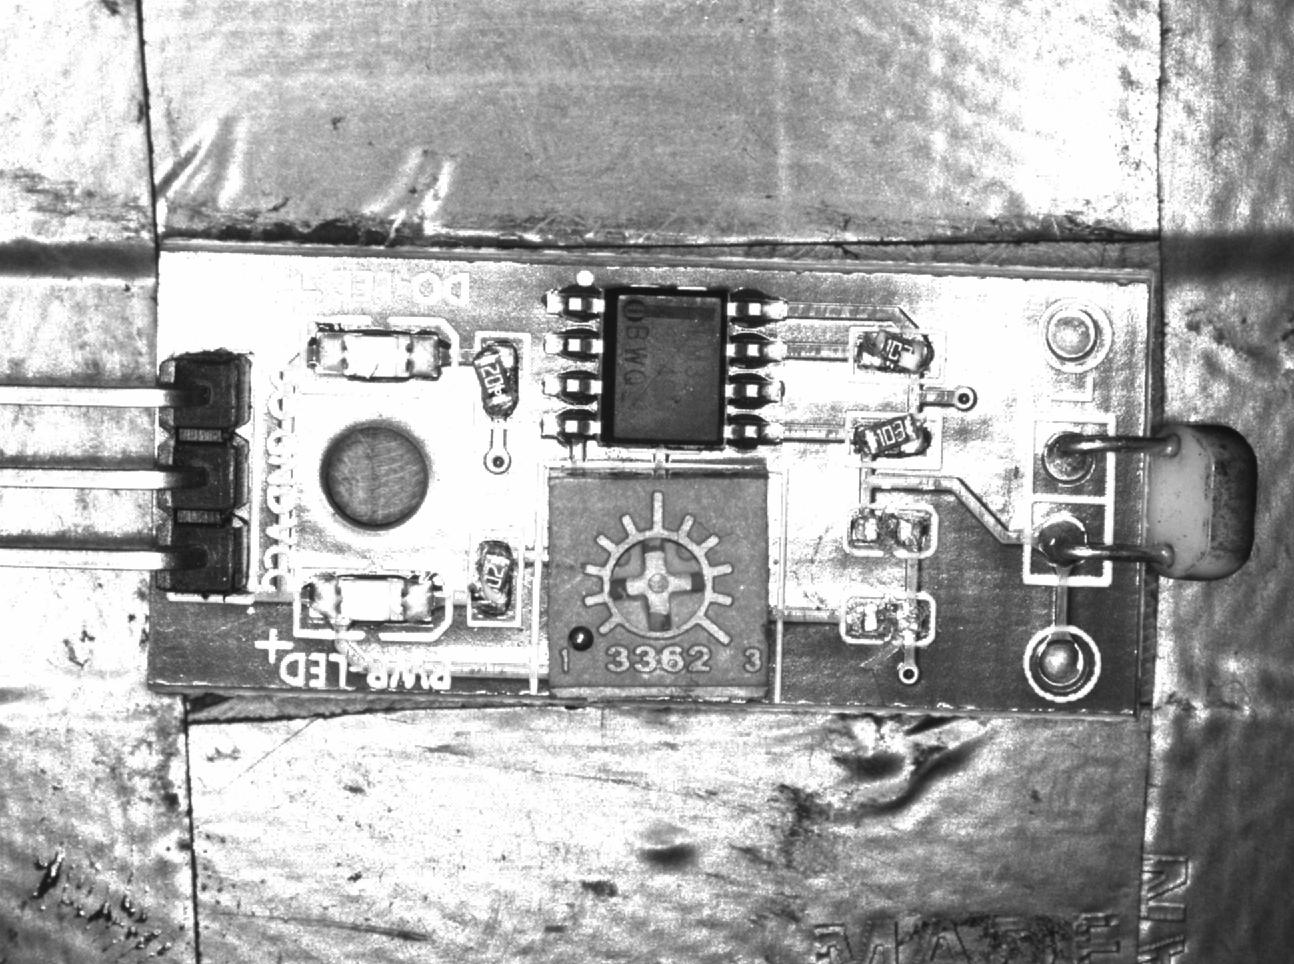lifted: (850, 329, 947, 378), (469, 531, 519, 624), (852, 412, 938, 467), (476, 331, 522, 424)
miss: (842, 501, 936, 559), (841, 594, 936, 645)
